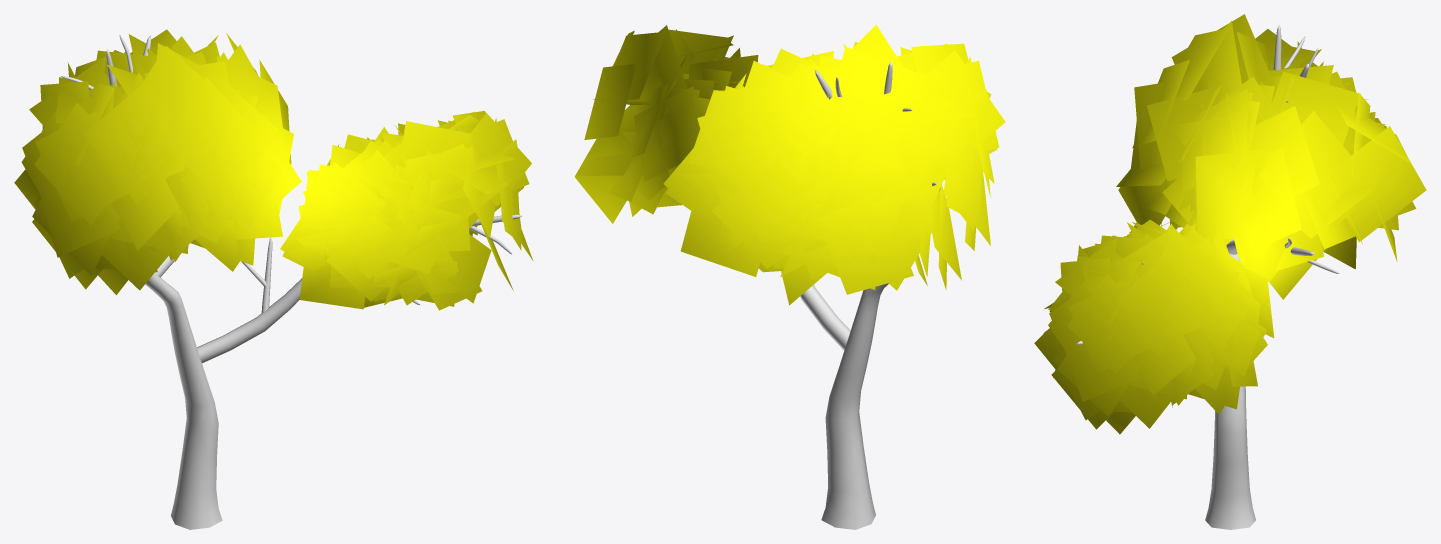
Rendered from MapleTree_1.glb.
The picture shows the model from 3 angles, left to right: view 1: azimuth 30°, elevation 25°; view 2: azimuth 150°, elevation 25°; view 3: azimuth 270°, elevation 25°; orthographic projection. The views are drawn at different scales.
Parts seen in each view (by area): view 1: MapleTree_1; view 2: MapleTree_1; view 3: MapleTree_1.
Part boxes in pixels (box(x1,y1,x2,y2)): MapleTree_1: box(14, 29, 533, 529); MapleTree_1: box(575, 25, 1005, 529); MapleTree_1: box(1034, 14, 1426, 529).
Size of the model in its own units: 6.23 by 6.64 by 4.9.
Materials: 2 (1 with a texture image).
